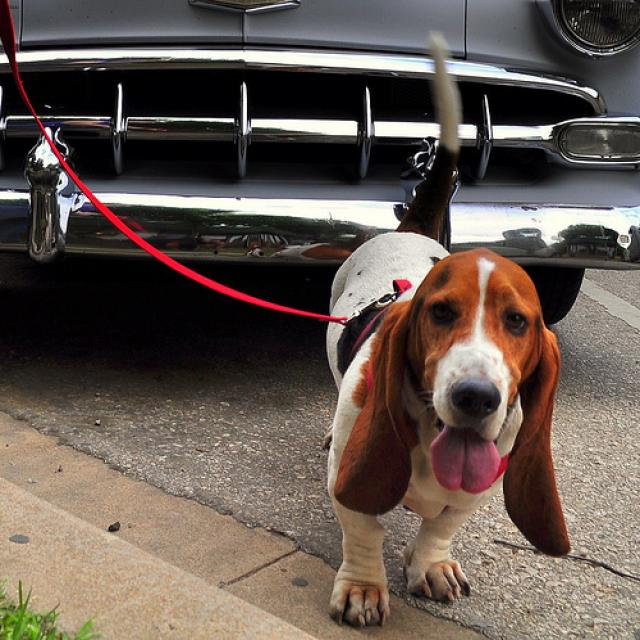dog-basset_hound: (311, 19, 585, 635)
